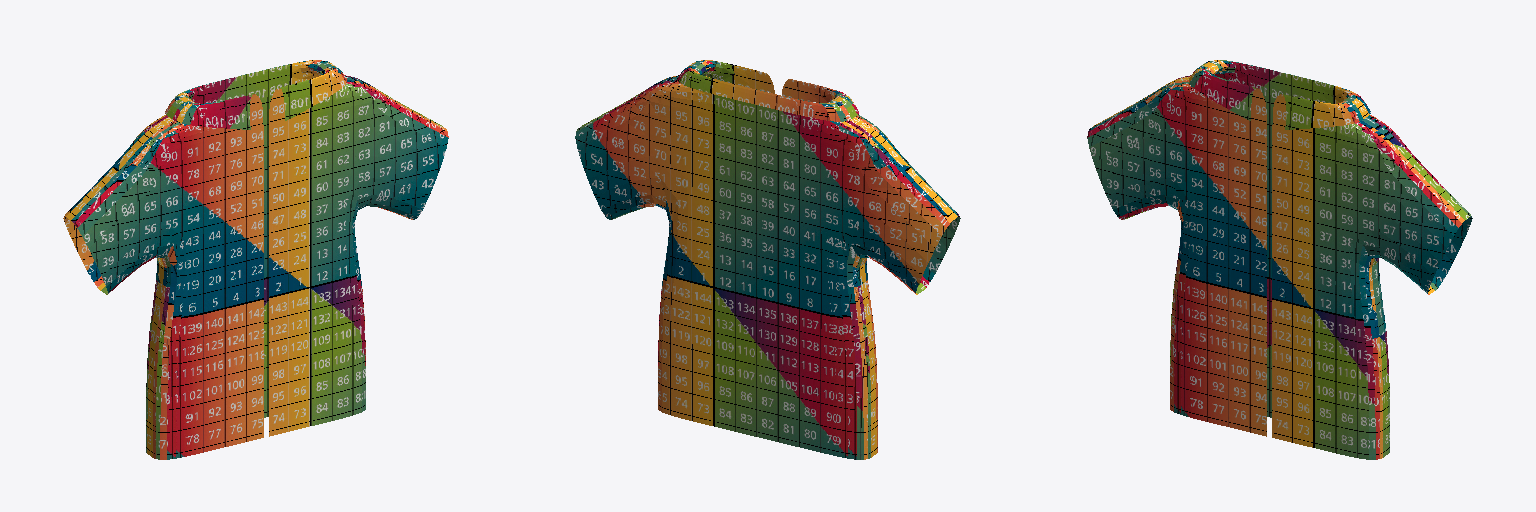
3 renders of one model, left to right at view 1: azimuth 30°, elevation 25°; view 2: azimuth 150°, elevation 25°; view 3: azimuth 330°, elevation 25°, orthographic.
Visible parts, largest first — view 1: Group#3-Entity136172; view 2: Group#3-Entity136172; view 3: Group#3-Entity136172.
Part boxes in pixels (x1,y1,x2,y2): Group#3-Entity136172: (63, 60, 448, 459); Group#3-Entity136172: (575, 60, 960, 459); Group#3-Entity136172: (1087, 60, 1472, 459).
Size of the model in its own units: 1483 by 1312 by 165.
1 materials, 1 textured.